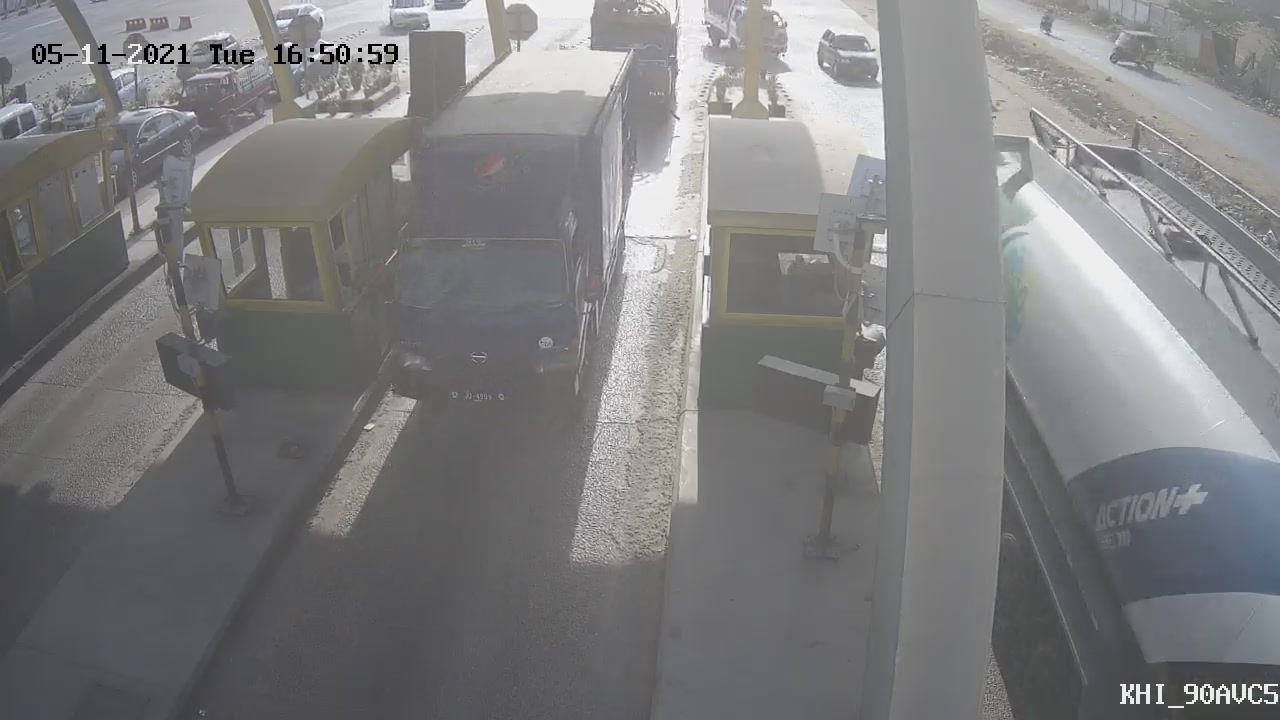F5: (330, 29, 672, 444)
